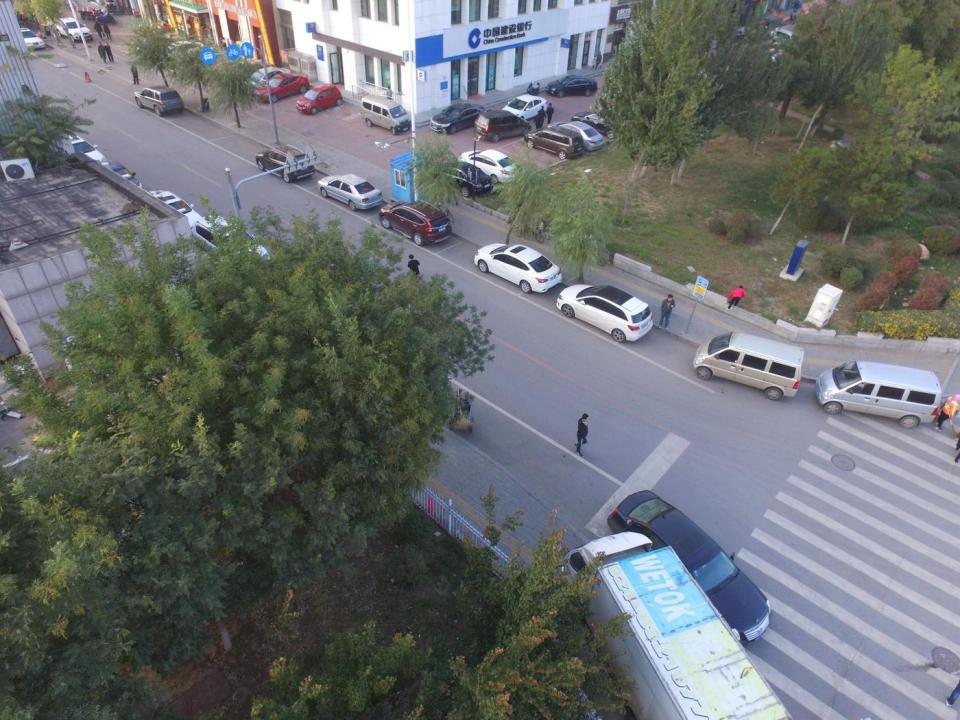car: (605, 489, 772, 644), (558, 284, 654, 343), (473, 242, 562, 296), (191, 216, 268, 267), (381, 200, 452, 248), (138, 190, 202, 232), (316, 174, 382, 212), (255, 144, 316, 182), (521, 126, 583, 161), (434, 161, 493, 196), (461, 151, 519, 182), (678, 66, 730, 99), (475, 109, 530, 140), (548, 118, 601, 150), (134, 84, 183, 118), (432, 102, 484, 134), (61, 134, 106, 166), (573, 109, 622, 138), (298, 84, 341, 115), (254, 74, 307, 99), (98, 160, 140, 190), (772, 22, 813, 52), (716, 25, 758, 54), (754, 46, 790, 78), (545, 76, 597, 98), (502, 95, 545, 120), (53, 15, 91, 41), (226, 62, 273, 82), (167, 41, 203, 64), (244, 68, 285, 84), (18, 26, 44, 50)
truck: (560, 532, 794, 720)
van: (817, 360, 941, 432), (694, 330, 804, 401), (359, 95, 412, 133)
